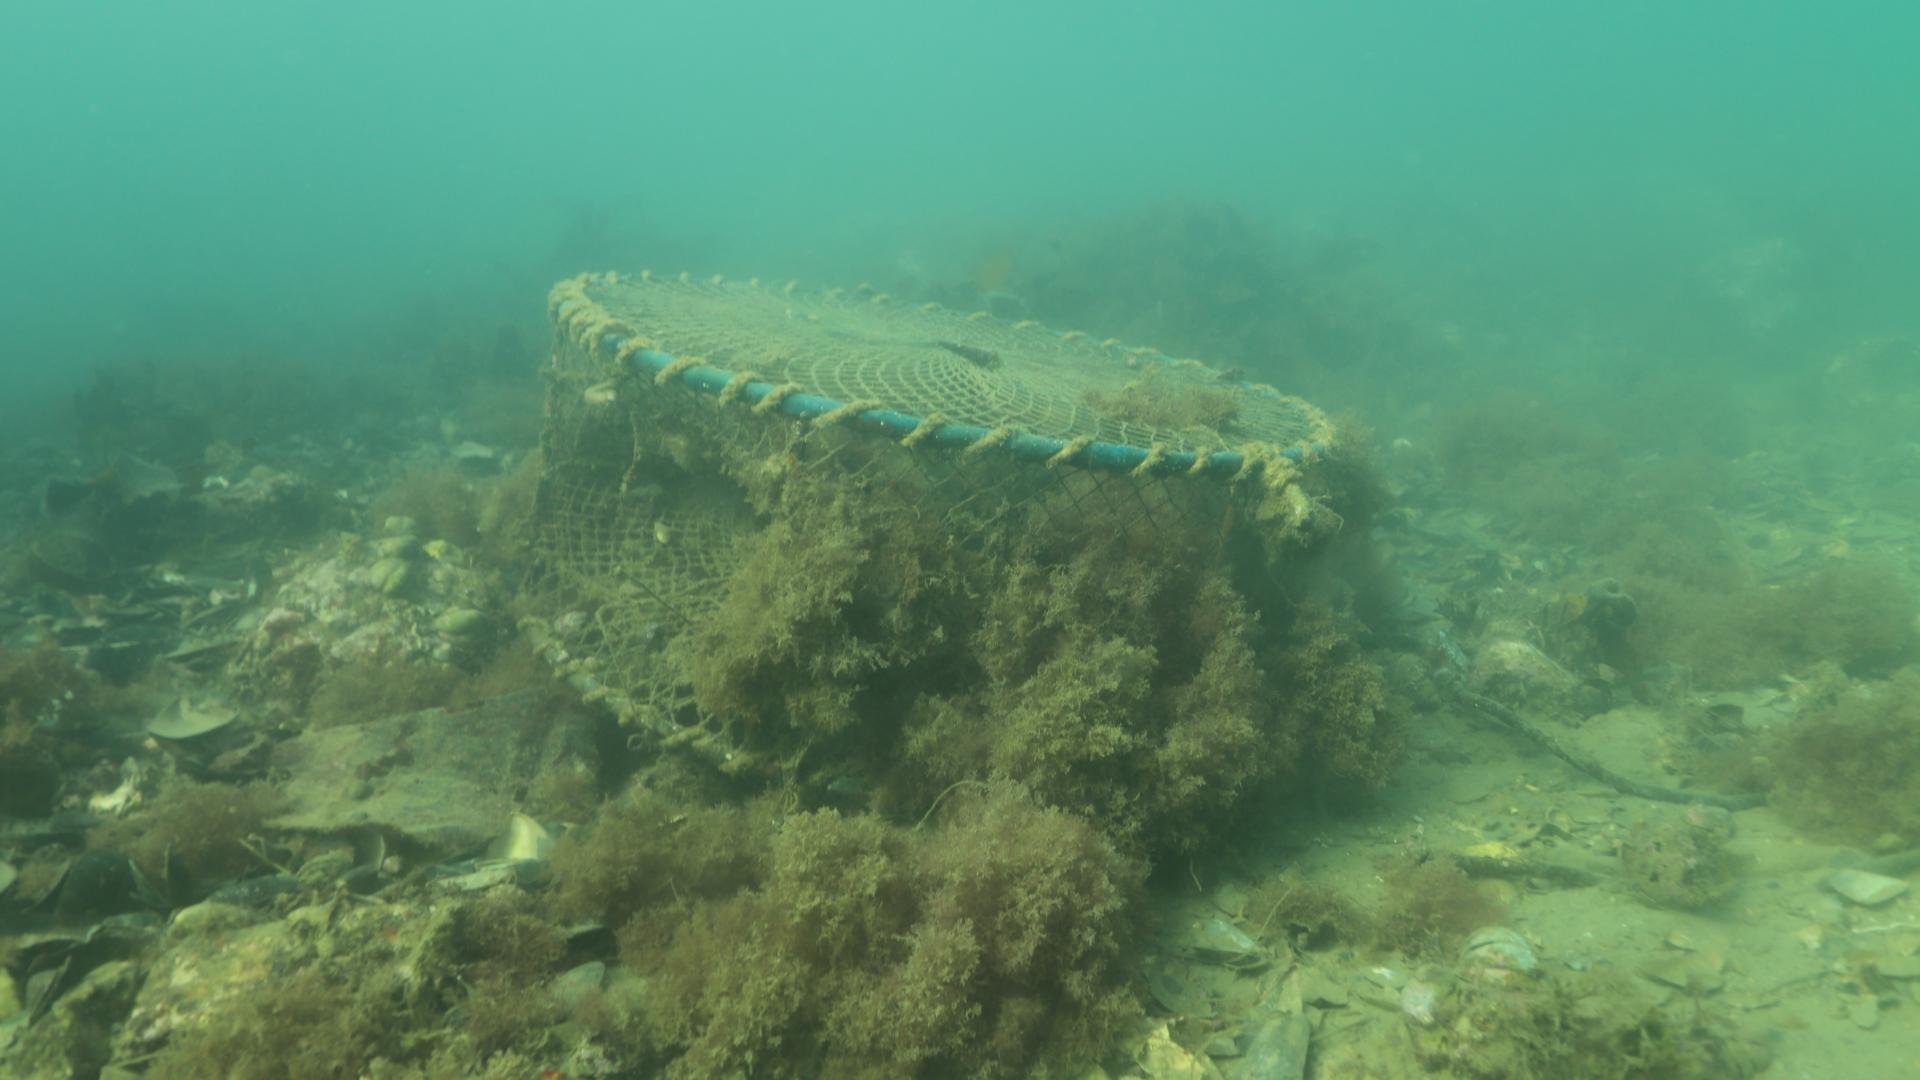circular fish trap: (500, 268, 1342, 806)
